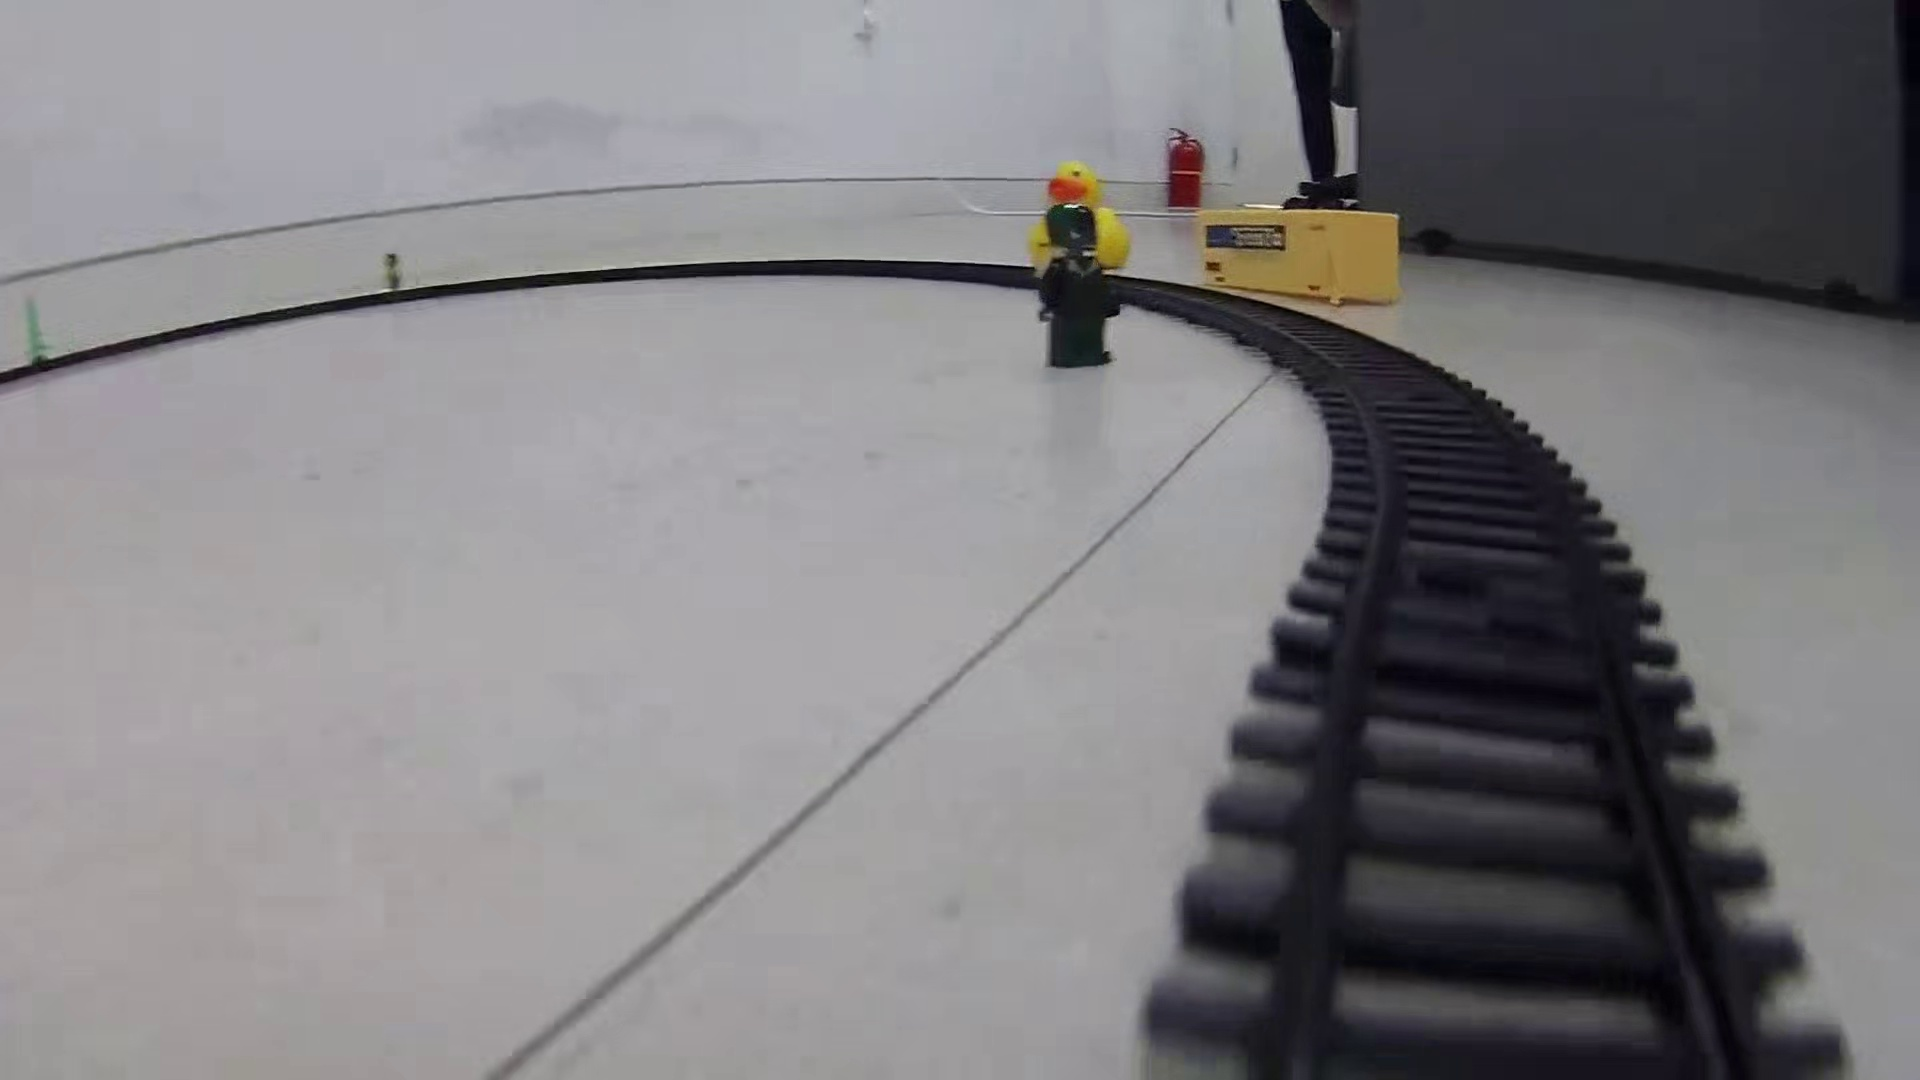people: (1035, 202, 1121, 368)
